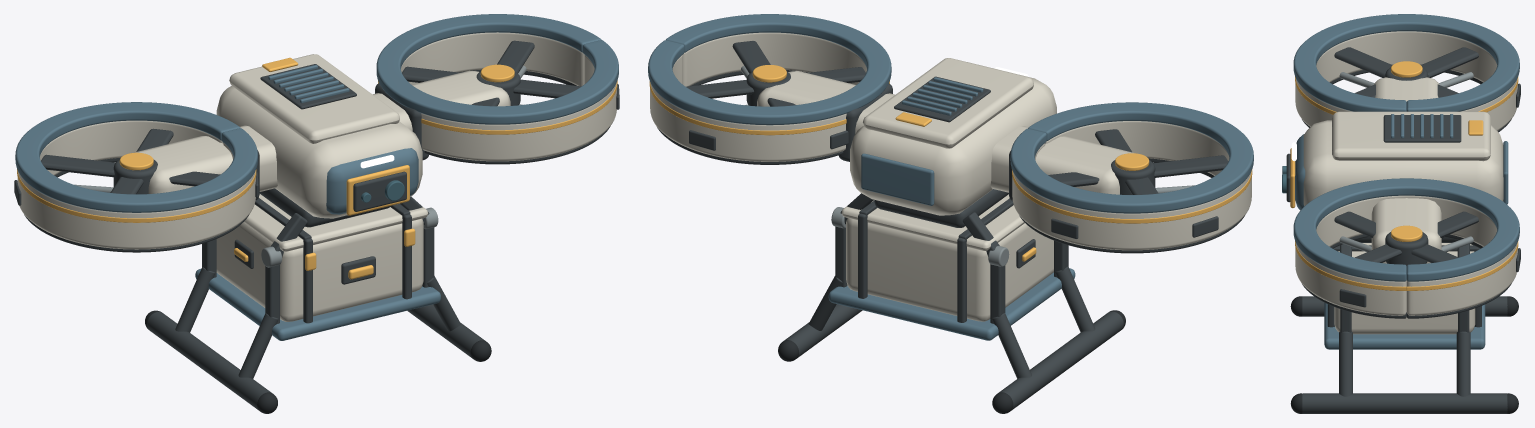
File: twin_rotor_cargo_drone.glb
The picture shows the model from 3 angles, left to right: view 1: azimuth 30°, elevation 25°; view 2: azimuth 150°, elevation 25°; view 3: azimuth 270°, elevation 25°; orthographic projection. The views are drawn at different scales.
Visible parts, largest first — view 1: Starboard rotor duct shell, Port rotor duct shell, Single removable belly cargo crate, Port upper protection lip, Starboard upper protection lip, Central rounded equipment fuselage, Transverse load beam, Upper avionics cover, Cargo cradle base, Cargo lid, Port landing skid, Nose slate fairing (+24 smaller); view 2: Single removable belly cargo crate, Starboard rotor duct shell, Port rotor duct shell, Port upper protection lip, Starboard upper protection lip, Central rounded equipment fuselage, Transverse load beam, Upper avionics cover, Cargo cradle base, Port landing skid, Cargo lid, Rear fuselage cooling surround (+21 smaller); view 3: Starboard upper protection lip, Starboard rotor duct shell, Port upper protection lip, Central rounded equipment fuselage, Port rotor duct shell, Upper avionics cover, Starboard landing skid, Transverse load beam, Cargo cradle base, Single removable belly cargo crate, Dorsal cooler well, Starboard duct ochre band (+28 smaller).
Part boxes in pixels (bbox=[...]): Starboard rotor duct shell: bbox=[378, 32, 616, 161]; Port rotor duct shell: bbox=[17, 120, 255, 249]; Single removable belly cargo crate: bbox=[216, 218, 423, 321]; Port upper protection lip: bbox=[15, 102, 257, 212]; Starboard upper protection lip: bbox=[376, 14, 618, 124]; Central rounded equipment fuselage: bbox=[216, 86, 422, 218]; Transverse load beam: bbox=[135, 70, 510, 193]; Upper avionics cover: bbox=[229, 54, 399, 143]; Cargo cradle base: bbox=[195, 269, 440, 340]; Cargo lid: bbox=[243, 194, 428, 251]; Port landing skid: bbox=[147, 312, 271, 410]; Nose slate fairing: bbox=[326, 148, 418, 214]; Single removable belly cargo crate: bbox=[846, 218, 1053, 321]; Starboard rotor duct shell: bbox=[650, 32, 889, 161]; Port rotor duct shell: bbox=[1012, 121, 1251, 250]; Port upper protection lip: bbox=[1010, 102, 1253, 213]; Starboard upper protection lip: bbox=[648, 14, 891, 125]; Central rounded equipment fuselage: bbox=[850, 62, 1056, 215]; Transverse load beam: bbox=[757, 71, 1133, 194]; Upper avionics cover: bbox=[862, 58, 1033, 148]; Cargo cradle base: bbox=[828, 268, 1075, 340]; Port landing skid: bbox=[998, 311, 1123, 410]; Cargo lid: bbox=[841, 194, 1024, 250]; Rear fuselage cooling surround: bbox=[861, 153, 934, 205]; Starboard upper protection lip: bbox=[1293, 178, 1519, 281]; Starboard rotor duct shell: bbox=[1295, 195, 1517, 315]; Port upper protection lip: bbox=[1293, 14, 1519, 111]; Central rounded equipment fuselage: bbox=[1303, 120, 1503, 205]; Port rotor duct shell: bbox=[1295, 31, 1517, 130]; Upper avionics cover: bbox=[1332, 111, 1490, 161]; Starboard landing skid: bbox=[1302, 393, 1507, 413]; Transverse load beam: bbox=[1371, 77, 1441, 263]; Cargo cradle base: bbox=[1324, 302, 1485, 349]; Single removable belly cargo crate: bbox=[1334, 307, 1475, 334]; Dorsal cooler well: bbox=[1383, 115, 1461, 142]; Starboard duct ochre band: bbox=[1295, 241, 1518, 290].
Size of the model in its own units: 6.58 by 2.83 by 2.55.
